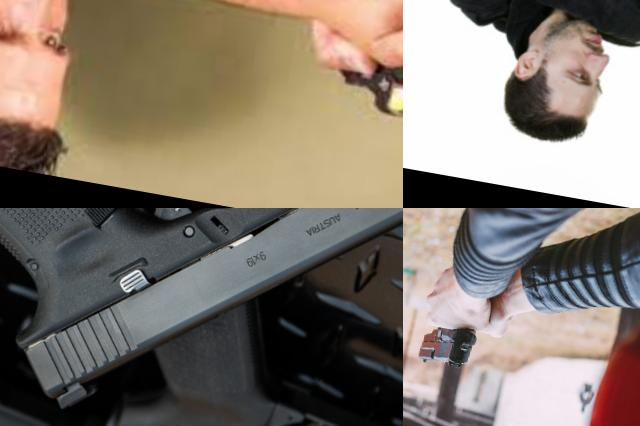handgun: (0, 208, 403, 426), (322, 0, 403, 145), (412, 298, 486, 374)
